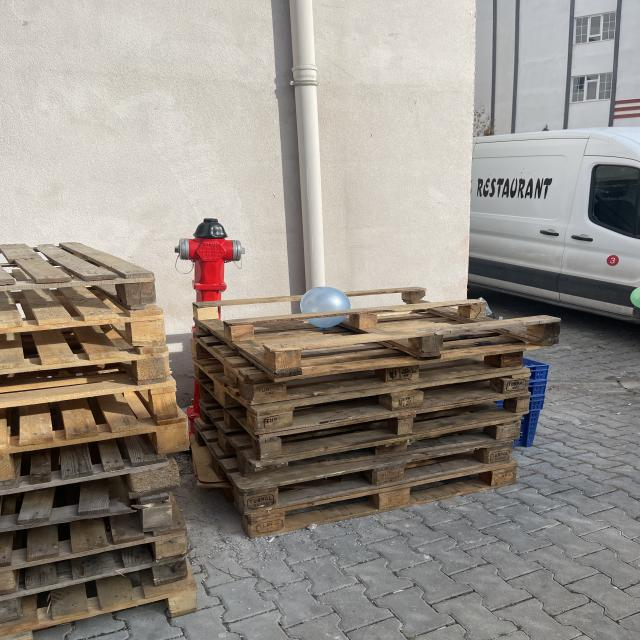balloon: (300, 287, 350, 313), (309, 316, 346, 328)
